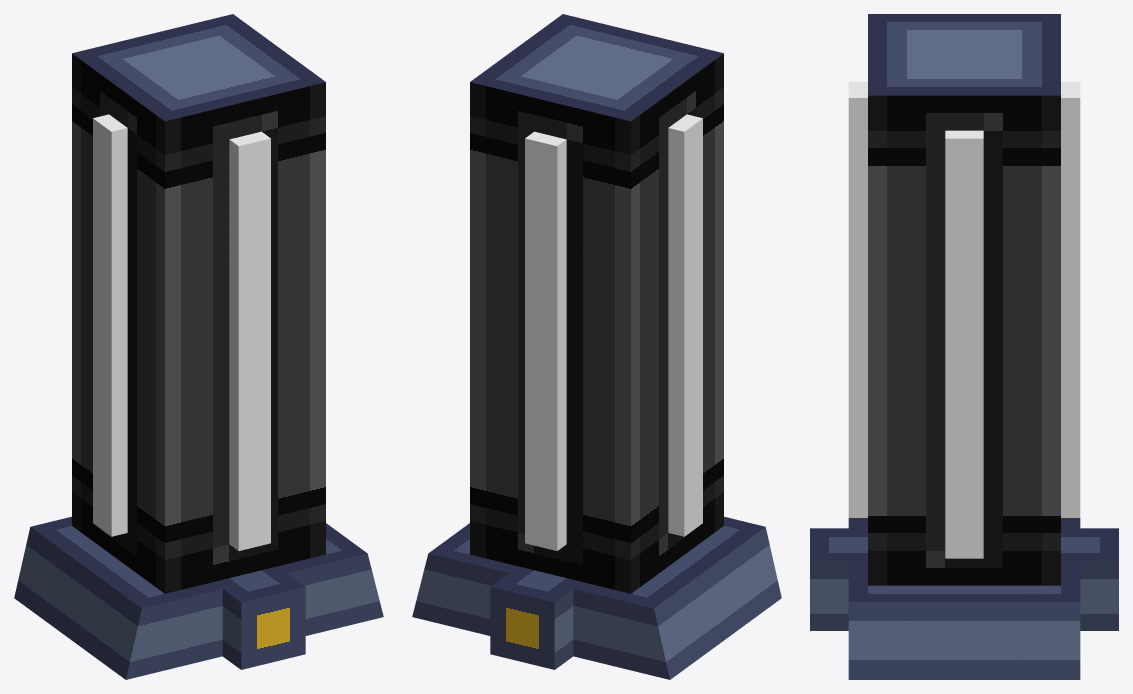
The model's file is Pillar.gltf.
3 renders of one model, left to right at view 1: azimuth 30°, elevation 25°; view 2: azimuth 150°, elevation 25°; view 3: azimuth 270°, elevation 25°, orthographic. The views are drawn at different scales.
Parts seen in each view (by area): view 1: Main, Bottom, LightBar2, LightBar; view 2: Main, Bottom, LightBar2, LightBar; view 3: Main, Bottom, LightBar2, LightBar.
Part boxes in pixels (<box>): Main: <box>72,14,325,593</box>; Bottom: <box>14,516,383,679</box>; LightBar2: <box>229,131,270,550</box>; LightBar: <box>93,114,127,536</box>; Main: <box>470,14,723,593</box>; Bottom: <box>412,516,781,679</box>; LightBar2: <box>525,131,566,550</box>; LightBar: <box>668,114,702,536</box>; Main: <box>868,14,1060,585</box>; Bottom: <box>810,518,1118,679</box>; LightBar2: <box>848,81,1080,517</box>; LightBar: <box>945,130,983,558</box>.
Bounding box in the file's own units: 1 × 2 × 1.
2 materials, 1 textured.
